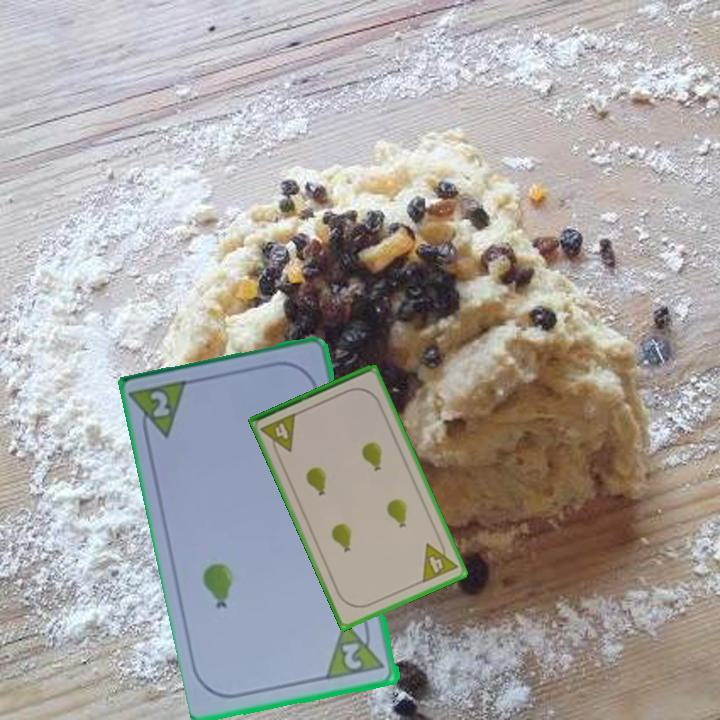2p: (128, 376, 193, 447), (324, 615, 389, 683)
4p: (418, 535, 461, 586), (257, 409, 299, 459)
